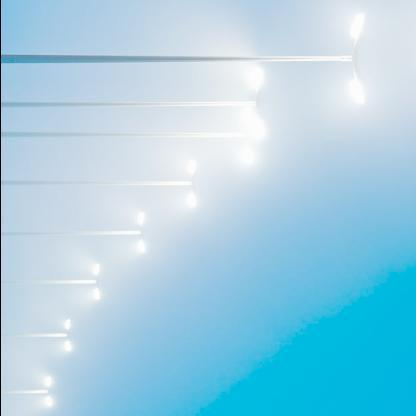on: (9, 0, 416, 416)
